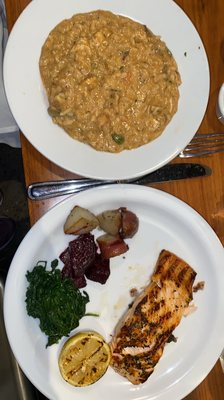curry: (25, 262, 89, 341)
sushi: (2, 181, 223, 399), (3, 5, 211, 180)
